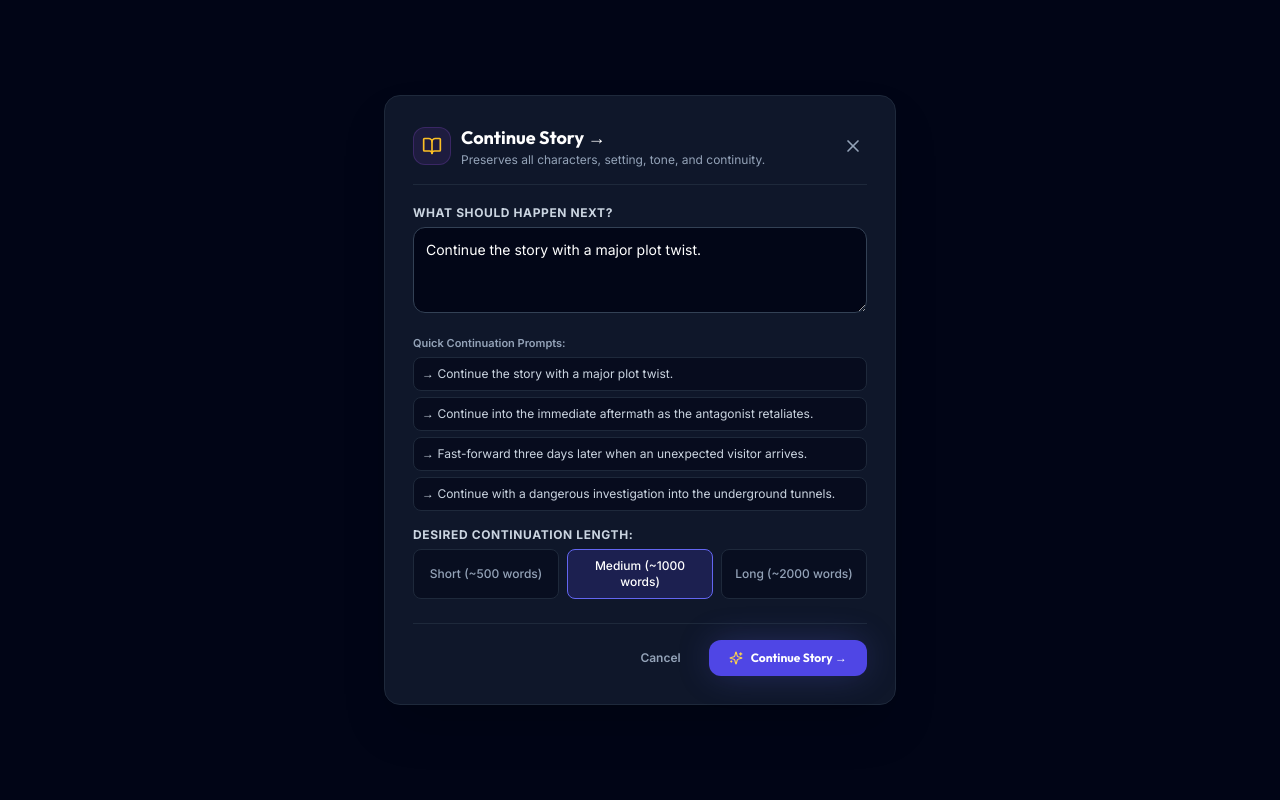
Modals Components (src/components/Modals/) › ContinueStoryModal › updates continuation prompt when quick preset is clicked
Click the button "→ Fast-forward three days later when an unexpected visitor arrives." at coordinates (640, 454), box [413,437,867,471]
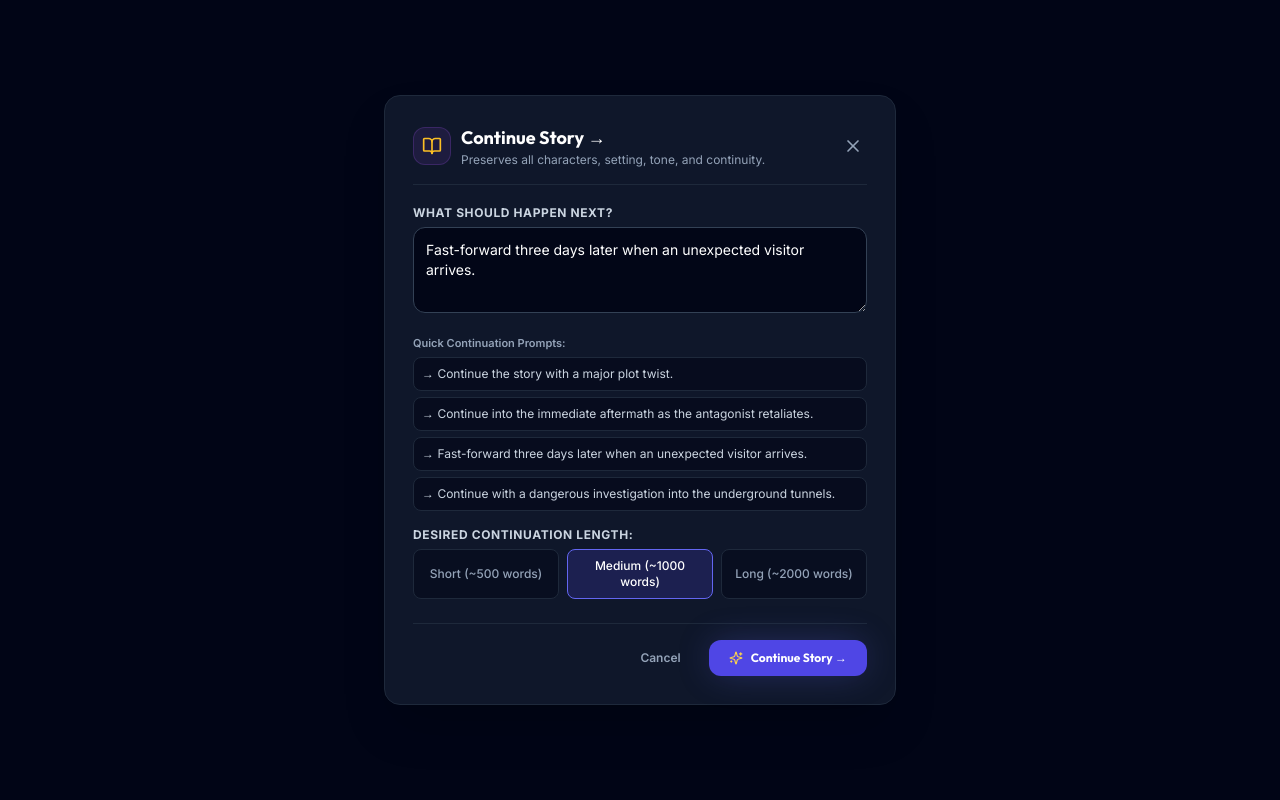
Expected: the text box with placeholder "e.g. Continue the story with a major plot twist..." holds "Fast-forward three days later when an unexpected visitor arrives.", [413,227,867,313]
